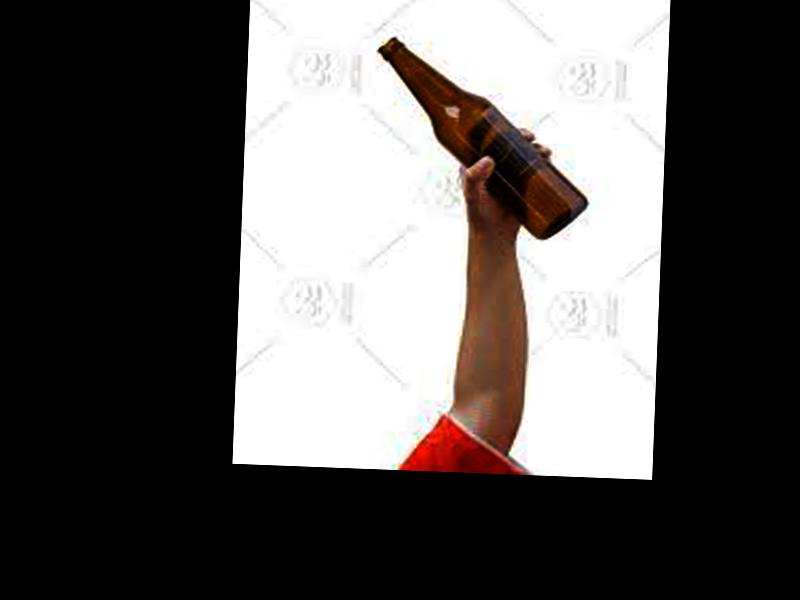Beer: (372, 37, 595, 241)
